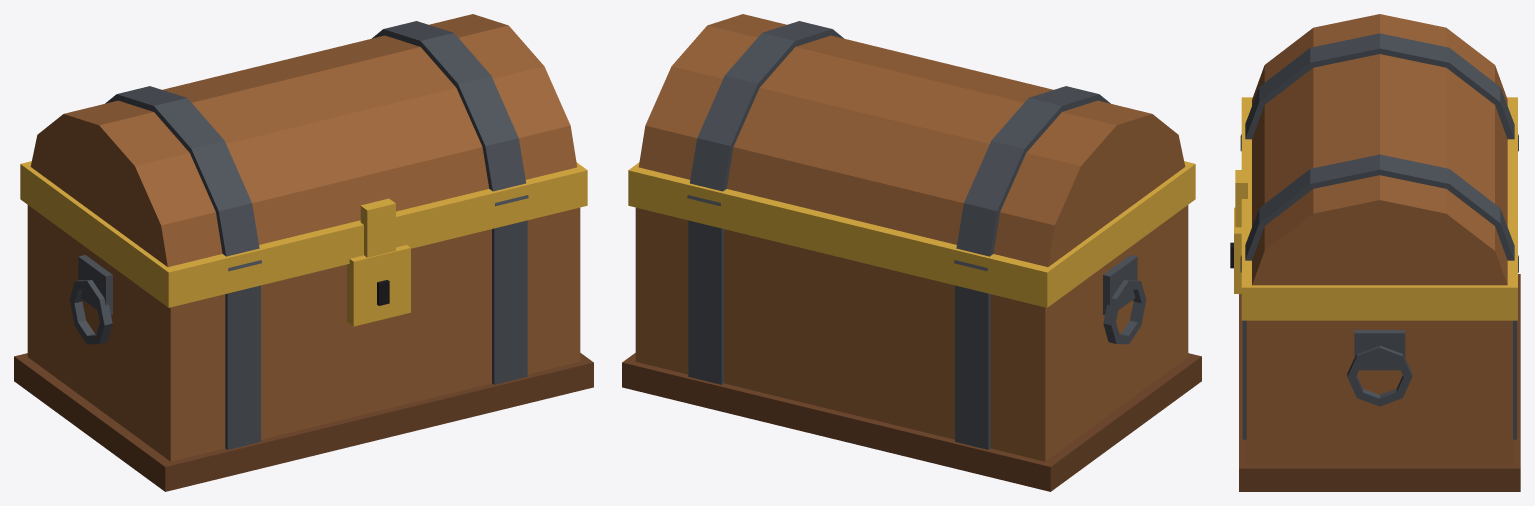
Rendered from TreasureChest.obj.
3 renders of one model, left to right at view 1: azimuth 30°, elevation 25°; view 2: azimuth 150°, elevation 25°; view 3: azimuth 270°, elevation 25°, orthographic. The views are drawn at different scales.
Parts seen in each view (by area): view 1: Lid, Base, Plinth, LidRim, Rim, LidStrapL, LidStrapR, StrapR, StrapL, LockPlate, Hasp, HandleL (+1 smaller); view 2: Base, Lid, Plinth, LidRim, Rim, LidStrapL, LidStrapR, StrapR, StrapL, HandleL, HandlePlateL; view 3: Lid, Base, Plinth, LidRim, LidStrapR, LidStrapL, Rim, HandleR, HandlePlateR, StrapR, Hasp, LockPlate.
Boxes of the visible parts, left/top/right/bottom form: Lid: left=30, top=14, right=577, bottom=266; Base: left=27, top=205, right=580, bottom=461; Plinth: left=14, top=353, right=593, bottom=491; LidRim: left=20, top=161, right=587, bottom=290; Rim: left=20, top=182, right=587, bottom=307; LidStrapL: left=105, top=86, right=261, bottom=271; LidStrapR: left=372, top=21, right=528, bottom=206; StrapR: left=492, top=220, right=527, bottom=384; StrapL: left=225, top=285, right=260, bottom=449; LockPlate: left=347, top=245, right=410, bottom=326; Hasp: left=360, top=198, right=395, bottom=257; HandleL: left=69, top=280, right=112, bottom=344; Base: left=635, top=205, right=1188, bottom=461; Lid: left=638, top=14, right=1185, bottom=266; Plinth: left=622, top=353, right=1201, bottom=491; LidRim: left=628, top=161, right=1195, bottom=290; Rim: left=628, top=182, right=1195, bottom=307; LidStrapL: left=954, top=86, right=1110, bottom=271; LidStrapR: left=687, top=21, right=843, bottom=206; StrapR: left=688, top=220, right=723, bottom=384; StrapL: left=955, top=285, right=990, bottom=449; HandleL: left=1103, top=280, right=1146, bottom=344; HandlePlateL: left=1103, top=255, right=1137, bottom=315; Lid: left=1252, top=14, right=1507, bottom=285; Base: left=1246, top=320, right=1512, bottom=464; Plinth: left=1239, top=274, right=1520, bottom=491; LidRim: left=1241, top=97, right=1517, bottom=304; LidStrapR: left=1240, top=154, right=1518, bottom=272; LidStrapL: left=1240, top=33, right=1518, bottom=151; Rim: left=1241, top=304, right=1517, bottom=320; HandleR: left=1347, top=345, right=1412, bottom=406; HandlePlateR: left=1354, top=330, right=1405, bottom=370; StrapR: left=1242, top=320, right=1516, bottom=439; Hasp: left=1235, top=170, right=1247, bottom=227; LockPlate: left=1234, top=207, right=1241, bottom=293.
Bounding box in the file's own units: 0.911 × 0.632 × 0.567.
